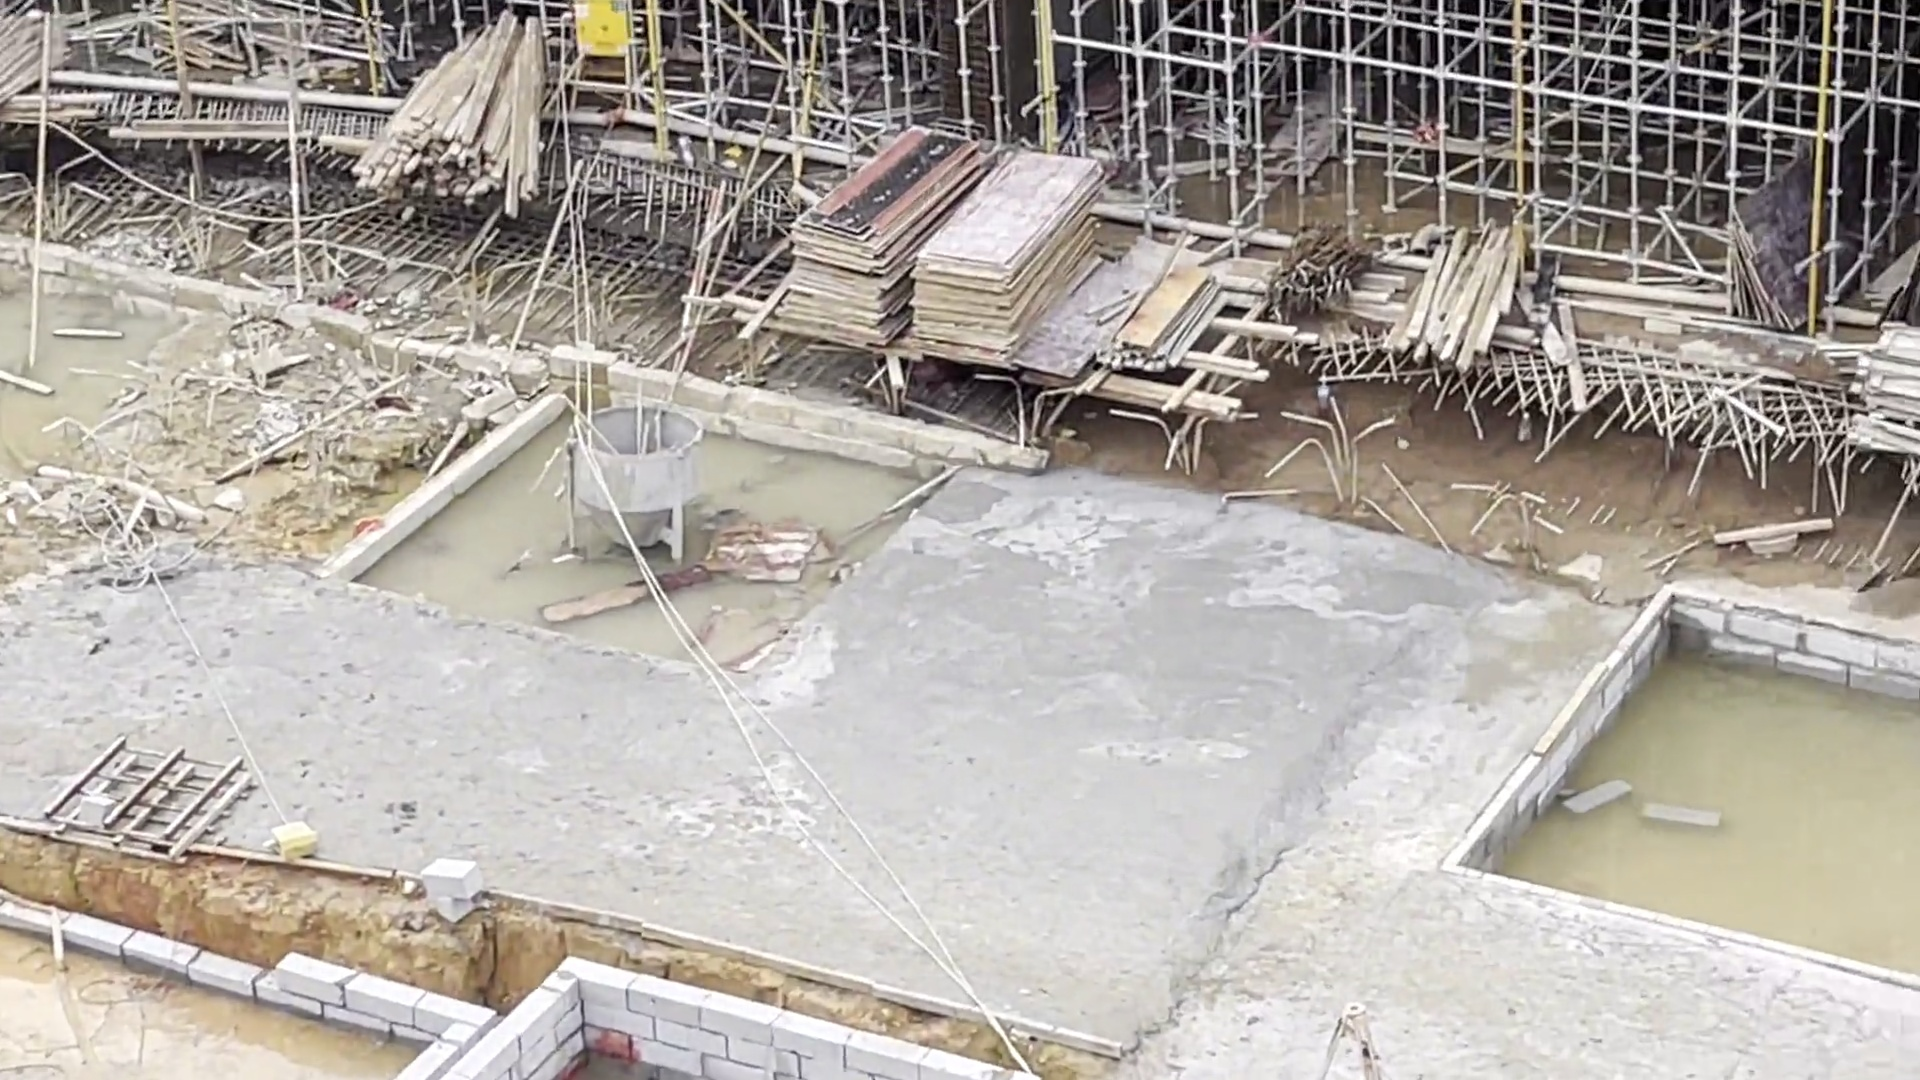board: (775, 127, 989, 339), (913, 146, 1109, 367)
ebox: (570, 1, 641, 113)
rebar: (1263, 216, 1375, 326)
wood: (355, 15, 555, 216), (1382, 219, 1535, 372)
